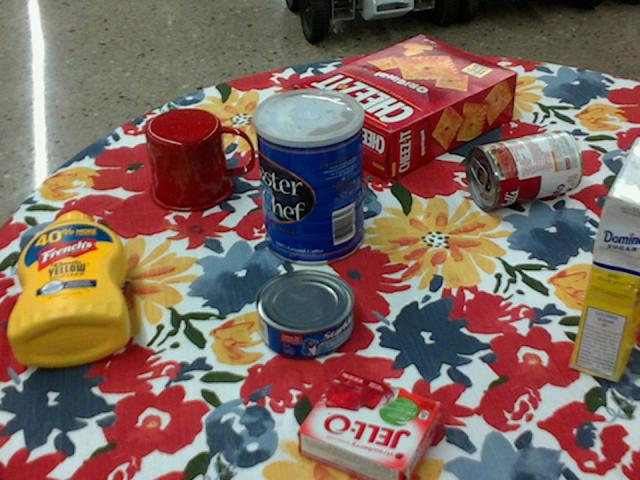cracker_box: (296, 36, 518, 182)
gelatin_box: (300, 372, 447, 479)
master_chef_can: (253, 87, 364, 265)
mug: (145, 108, 253, 212)
mustard_bottle: (9, 211, 130, 366)
sugar_box: (572, 136, 639, 382)
tomato_soup_can: (466, 128, 583, 210)
tuna_fish_can: (255, 270, 354, 360)
